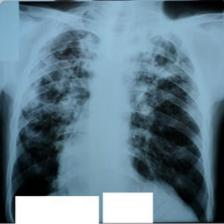tuberculosis: (7, 27, 215, 224)
